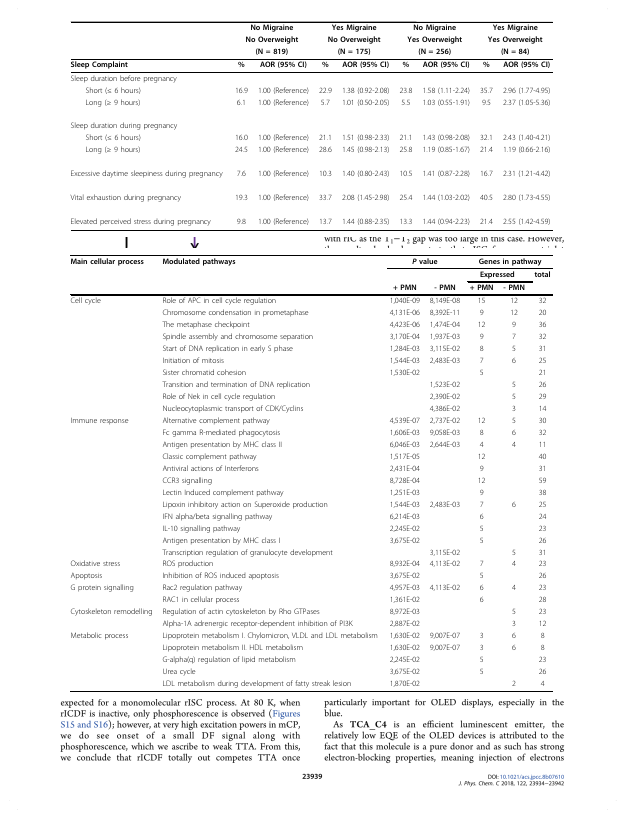borderless: (69, 253, 553, 691), (70, 20, 553, 230)
cell: (161, 631, 379, 641), (161, 619, 354, 629), (161, 679, 352, 689), (161, 607, 321, 617), (161, 548, 334, 557), (161, 332, 314, 342), (161, 500, 329, 509), (161, 380, 311, 390), (161, 404, 304, 414), (161, 643, 304, 653), (70, 170, 224, 179), (161, 655, 297, 665), (161, 309, 310, 318), (161, 344, 294, 354), (70, 218, 212, 227), (161, 440, 283, 450), (161, 428, 281, 438), (161, 392, 276, 402), (161, 488, 284, 497), (161, 416, 271, 426), (161, 536, 281, 545), (70, 74, 178, 84), (70, 122, 178, 132), (161, 572, 280, 581), (161, 297, 277, 306), (161, 512, 273, 521), (70, 194, 182, 203), (161, 452, 257, 462), (161, 320, 251, 330), (161, 464, 260, 473), (161, 368, 247, 378), (69, 607, 154, 617), (161, 583, 243, 593), (161, 595, 240, 605), (161, 524, 241, 533), (70, 257, 145, 266), (161, 257, 236, 266), (69, 583, 135, 593), (161, 356, 225, 366), (69, 416, 129, 426), (69, 631, 129, 641), (84, 86, 142, 96), (84, 134, 142, 144), (478, 257, 542, 266), (84, 98, 141, 108), (84, 146, 141, 156), (70, 61, 129, 70), (257, 86, 310, 96), (257, 98, 310, 108), (257, 134, 310, 144), (257, 146, 310, 156), (406, 36, 463, 45), (487, 36, 543, 45), (421, 86, 471, 96), (421, 98, 471, 108), (421, 134, 471, 144), (421, 146, 471, 156), (341, 86, 390, 96), (502, 86, 551, 96), (341, 98, 390, 108), (502, 98, 551, 108), (341, 134, 390, 144), (502, 134, 551, 144), (341, 146, 390, 156), (502, 146, 551, 156), (245, 36, 299, 45), (327, 36, 381, 45), (161, 560, 214, 569), (257, 170, 310, 179), (257, 194, 310, 203), (257, 218, 310, 227), (161, 476, 213, 485), (69, 560, 121, 569), (421, 170, 471, 179), (421, 194, 471, 203), (421, 218, 471, 227), (259, 61, 308, 70), (341, 61, 390, 70), (502, 61, 551, 70), (341, 170, 390, 179), (502, 170, 551, 179), (341, 194, 390, 203), (502, 194, 551, 203), (341, 218, 390, 227), (502, 218, 551, 227), (422, 61, 470, 70), (331, 24, 378, 33), (492, 24, 539, 33), (249, 24, 294, 33), (412, 24, 457, 33), (479, 270, 516, 280), (161, 667, 197, 677), (389, 320, 421, 330), (429, 320, 461, 330), (389, 332, 421, 342), (429, 332, 461, 342), (389, 344, 421, 354), (429, 344, 461, 354), (389, 356, 421, 366), (429, 356, 461, 366), (389, 368, 421, 378), (429, 380, 461, 390), (429, 392, 461, 402), (429, 404, 461, 414), (389, 416, 421, 426), (429, 416, 461, 426), (389, 428, 421, 438), (429, 428, 461, 438), (389, 440, 421, 450), (429, 440, 461, 450), (389, 452, 421, 462), (389, 583, 421, 593), (429, 583, 461, 593), (389, 595, 421, 605), (389, 607, 421, 617), (389, 619, 421, 629), (389, 631, 421, 641), (429, 631, 461, 641), (389, 643, 421, 653), (429, 643, 461, 653), (389, 655, 421, 665), (389, 667, 421, 677), (389, 679, 421, 689), (254, 48, 289, 57), (417, 48, 452, 57), (69, 572, 103, 581), (337, 48, 371, 57), (69, 297, 102, 306), (389, 297, 421, 306), (429, 297, 461, 306), (389, 309, 421, 318), (429, 309, 461, 318), (389, 464, 421, 473), (389, 476, 421, 485), (389, 488, 421, 497), (389, 500, 421, 509), (429, 500, 461, 509), (389, 512, 421, 521), (389, 524, 421, 533), (389, 536, 421, 545), (429, 548, 461, 557), (389, 560, 421, 569), (429, 560, 461, 569), (389, 572, 421, 581), (500, 48, 530, 57), (392, 283, 418, 293), (469, 283, 494, 293), (411, 257, 438, 266), (502, 283, 526, 293), (433, 283, 456, 293), (534, 270, 551, 280), (234, 86, 249, 96), (318, 86, 333, 96), (398, 86, 413, 96), (479, 86, 494, 96), (234, 134, 249, 144), (318, 134, 333, 144), (398, 134, 413, 144), (479, 134, 494, 144), (234, 146, 249, 156), (318, 146, 333, 156), (398, 146, 413, 156), (479, 146, 494, 156), (318, 170, 333, 179), (398, 170, 413, 179), (479, 170, 494, 179), (234, 194, 249, 203), (318, 194, 333, 203), (398, 194, 413, 203), (479, 194, 494, 203), (318, 218, 333, 227), (398, 218, 413, 227), (479, 218, 494, 227), (236, 98, 247, 108), (320, 98, 331, 108), (400, 98, 411, 108), (481, 98, 492, 108), (236, 170, 247, 179), (236, 218, 247, 227), (509, 297, 519, 306), (509, 309, 519, 318), (477, 320, 486, 330), (538, 320, 547, 330), (538, 332, 547, 342), (538, 344, 547, 354), (538, 356, 547, 366), (538, 368, 547, 378), (538, 380, 547, 390), (538, 392, 547, 402), (538, 404, 547, 414), (477, 416, 486, 426), (538, 416, 547, 426), (538, 428, 547, 438), (538, 440, 547, 450), (477, 452, 486, 462), (538, 452, 547, 462), (538, 583, 547, 593), (538, 595, 547, 605), (538, 607, 547, 617), (538, 619, 547, 629), (538, 655, 547, 665), (538, 667, 547, 677), (477, 297, 486, 306), (538, 297, 547, 306), (538, 309, 547, 318), (538, 464, 547, 473), (477, 476, 486, 485), (538, 476, 547, 485), (538, 488, 547, 497), (538, 500, 547, 509), (538, 512, 547, 521), (538, 524, 547, 533), (538, 536, 547, 545), (538, 548, 547, 557), (538, 560, 547, 569), (538, 572, 547, 581), (237, 61, 246, 70), (321, 61, 330, 70), (401, 61, 410, 70), (482, 61, 491, 70), (511, 320, 517, 330), (511, 332, 517, 342), (511, 344, 517, 354), (511, 356, 517, 366), (511, 380, 517, 390), (511, 392, 517, 402), (511, 404, 517, 414), (511, 416, 517, 426), (511, 428, 517, 438), (511, 440, 517, 450), (511, 583, 517, 593), (511, 607, 517, 617), (511, 619, 517, 629), (511, 631, 517, 641), (511, 643, 517, 653), (511, 679, 517, 689), (511, 500, 517, 509), (511, 548, 517, 557), (511, 560, 517, 569), (479, 332, 484, 342), (479, 344, 484, 354), (479, 356, 484, 366), (479, 368, 484, 378), (479, 428, 484, 438), (479, 440, 484, 450), (479, 583, 484, 593), (479, 595, 484, 605), (479, 631, 484, 641), (540, 631, 545, 641), (479, 643, 484, 653), (540, 643, 545, 653), (479, 655, 484, 665), (479, 667, 484, 677), (540, 679, 545, 689), (479, 309, 484, 318), (479, 464, 484, 473), (479, 488, 484, 497), (479, 500, 484, 509), (479, 512, 484, 521), (479, 524, 484, 533), (479, 536, 484, 545), (479, 560, 484, 569), (479, 572, 484, 581)
